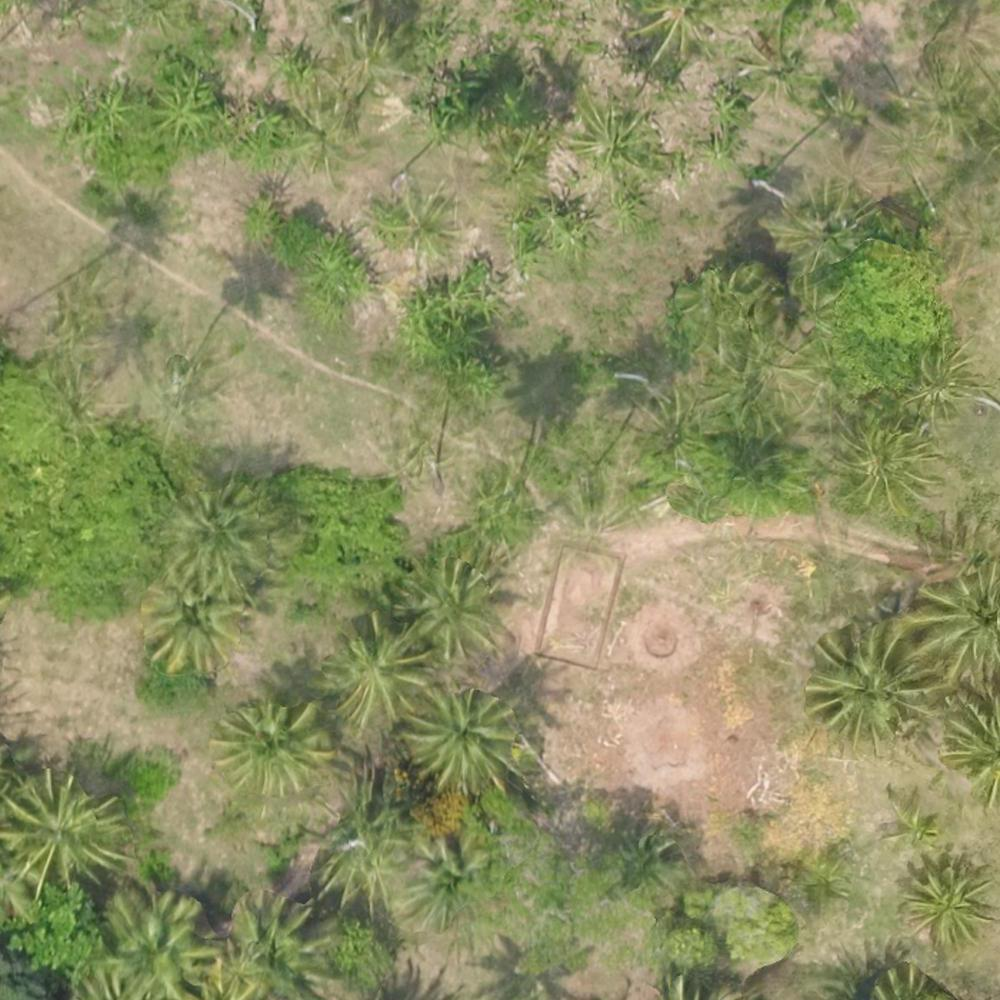Palm: (810, 623, 933, 743), (2, 767, 121, 891), (404, 683, 513, 793), (217, 698, 324, 800), (167, 485, 274, 584), (325, 619, 425, 722), (911, 562, 1000, 677), (398, 554, 501, 651), (142, 577, 243, 674), (836, 416, 937, 511), (896, 857, 995, 947)
